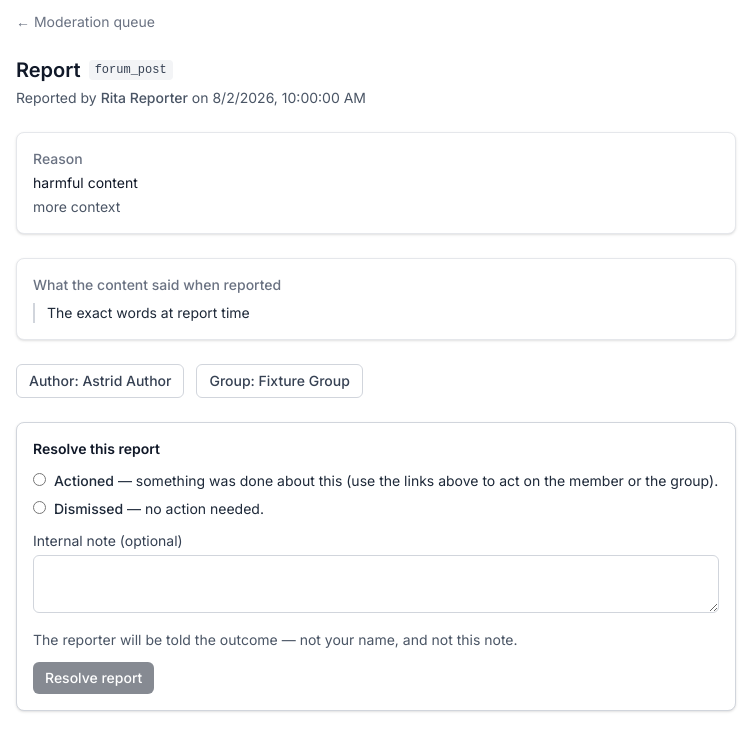
Test: AdminReportDetail (FEAT-H037 STORY-2/3) › a stale second resolve renders the platform 409 message VERBATIM
The image size is (753, 756).
expect the element with test id "resolve-panel" is shown: met, box [16,422,736,711]
What coordinates should you click on to do the following:
click the radio button labelled "Dismissed — no action needed."
I would click on:
 (40, 508)
Its box is [33,501,46,514].
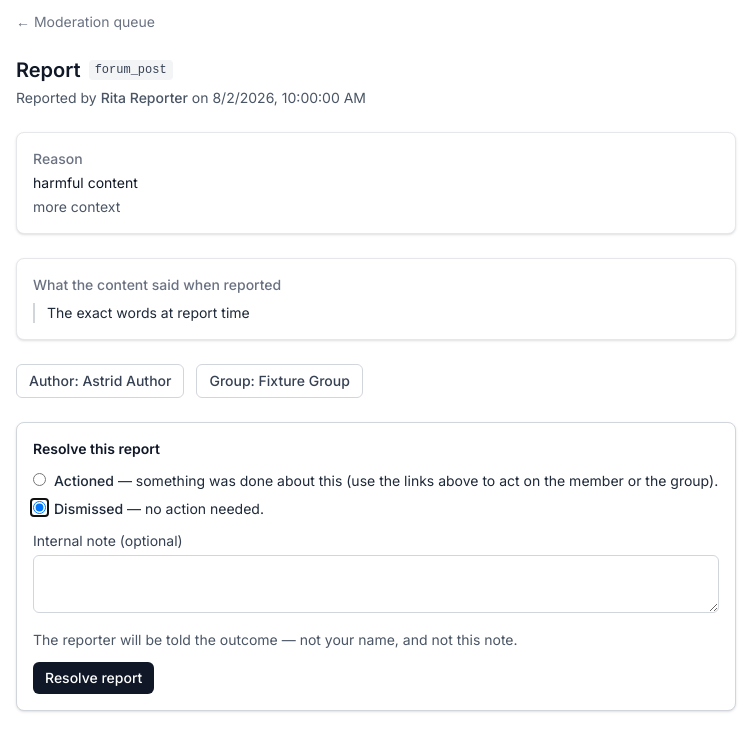
What coordinates should you click on to do the following:
click the button "Resolve report"
I would click on:
 (94, 678)
Its box is [33,662,154,694].
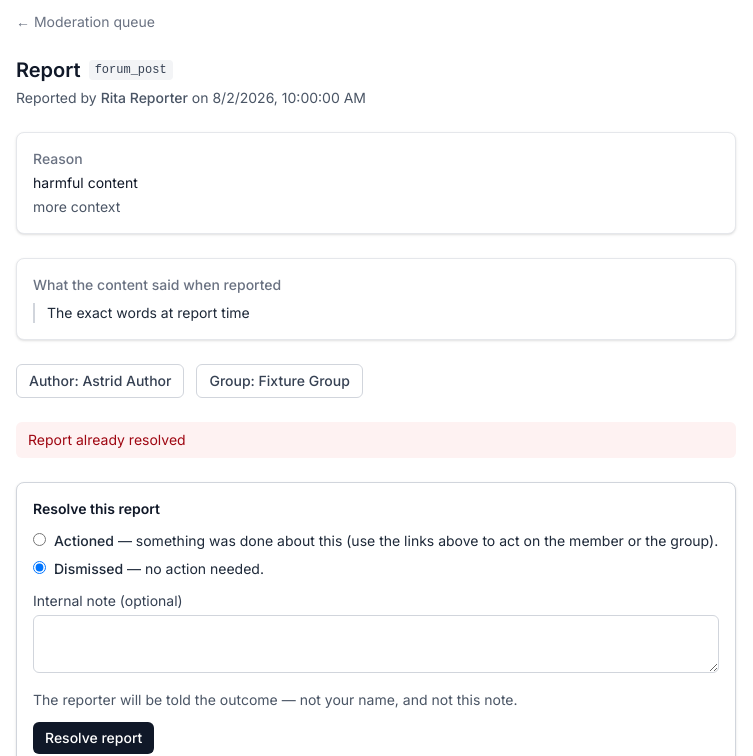
expect the text "Report already resolved" is shown: met, box [16,422,736,458]
